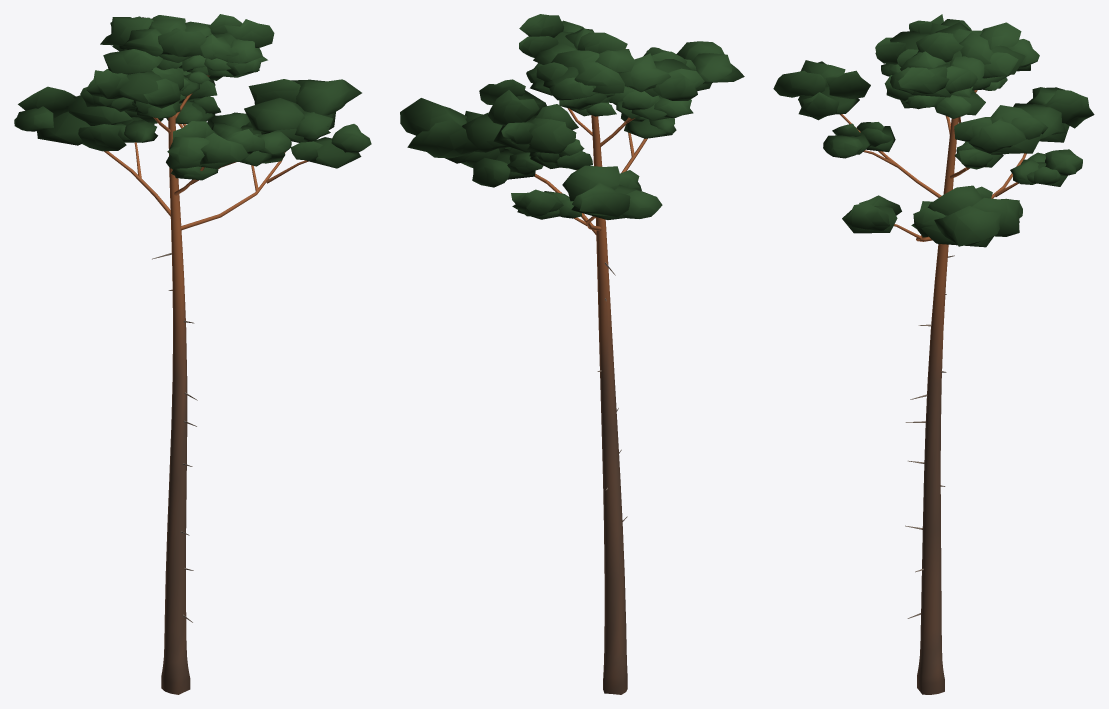
Rendered from pine_b.glb.
3 renders of one model, left to right at view 1: azimuth 30°, elevation 25°; view 2: azimuth 150°, elevation 25°; view 3: azimuth 270°, elevation 25°, orthographic.
Visible parts, largest first — view 1: LOD0; view 2: LOD0; view 3: LOD0.
Part boxes in pixels (bbox=[...]): LOD0: bbox=[14, 14, 371, 694]; LOD0: bbox=[400, 14, 744, 694]; LOD0: bbox=[773, 14, 1094, 694].
Size of what is drawn, in the model's own units: 9.62 by 19.92 by 8.8.
